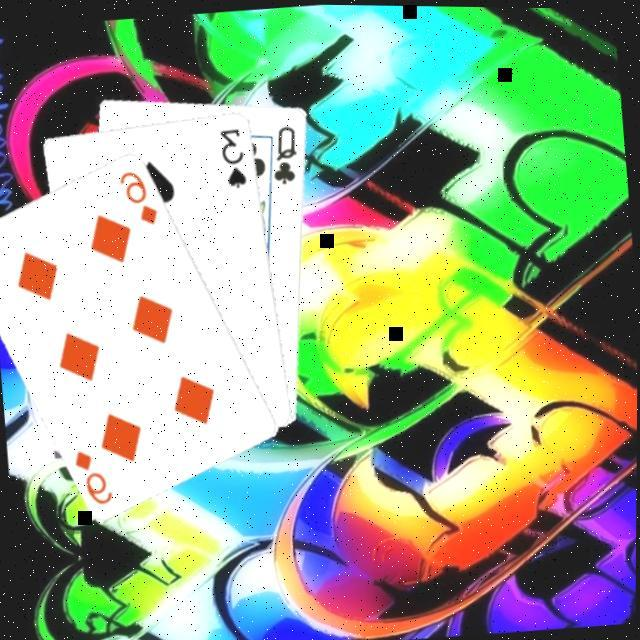3S: (214, 121, 250, 188)
6D: (114, 162, 160, 228), (70, 441, 116, 506)
QC: (266, 118, 302, 186)
